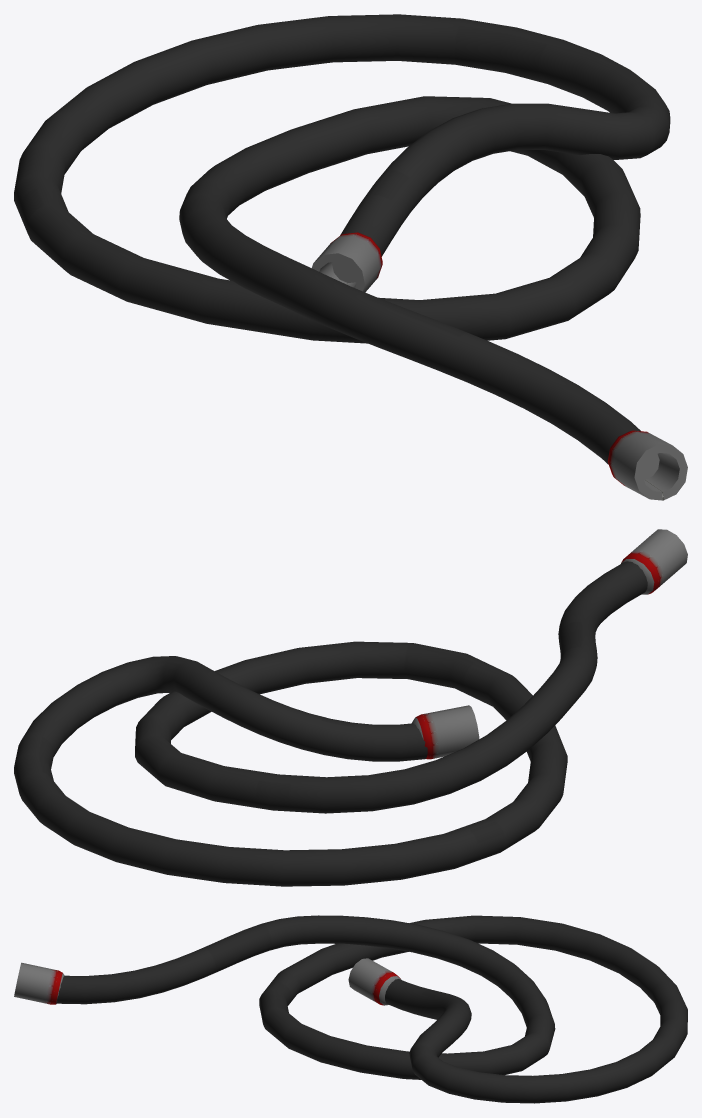
File: Prop_Cable_1.glb
3 views of the same model, one above another, from view 1: azimuth 30°, elevation 25°; view 2: azimuth 150°, elevation 25°; view 3: azimuth 270°, elevation 25° (orthographic). The views are drawn at different scales.
Visible parts, largest first — view 1: Prop_Cable_1; view 2: Prop_Cable_1; view 3: Prop_Cable_1.
Boxes of the visible parts, <box> form: Prop_Cable_1: <box>14,14,687,500</box>; Prop_Cable_1: <box>14,529,687,886</box>; Prop_Cable_1: <box>14,915,687,1103</box>.
Bounding box in the file's own units: 1.02 × 0.1482 × 1.65.
2 materials, 2 textured.
